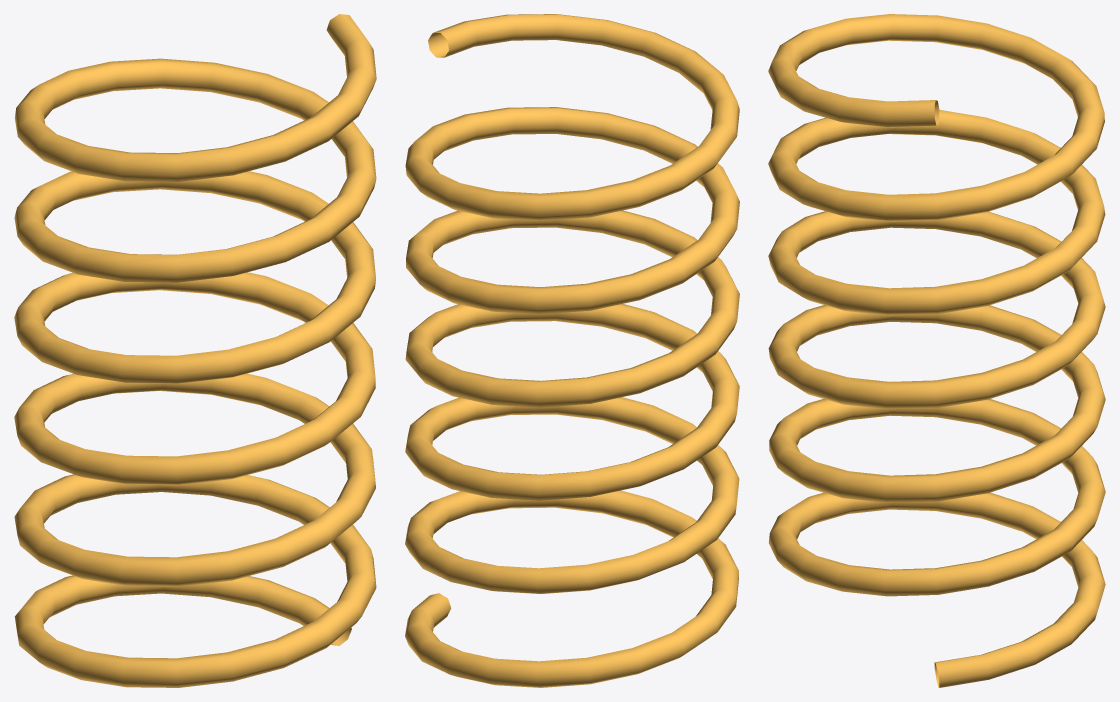
The model's file is helical-spring-lite.glb.
3 views of the same model, side by side, from view 1: azimuth 30°, elevation 25°; view 2: azimuth 150°, elevation 25°; view 3: azimuth 270°, elevation 25° (orthographic). The views are drawn at different scales.
Visible parts, largest first — view 1: Spring; view 2: Spring; view 3: Spring.
Boxes of the visible parts, x1,y1,x2,y2 form: Spring: [14, 14, 376, 687]; Spring: [405, 14, 739, 687]; Spring: [768, 14, 1105, 687].
Bounding box in the file's own units: 0.9797 × 1.88 × 0.9799.
